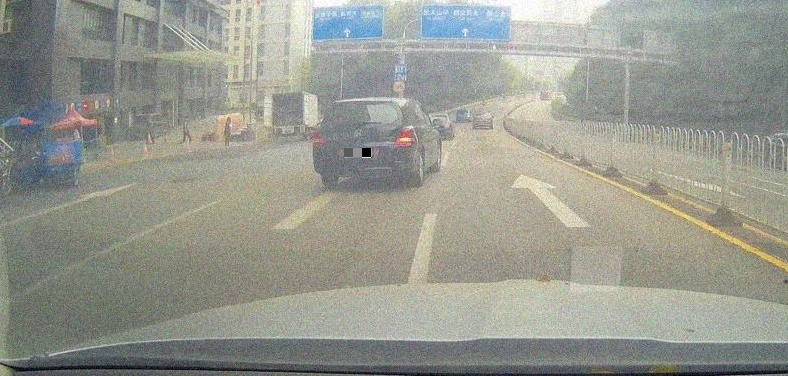L_light: (313, 129, 324, 146)
R_light: (394, 128, 413, 149)
T_light: (354, 101, 370, 104)
day-right: (312, 100, 418, 186)
plate_1: (344, 148, 372, 158)
